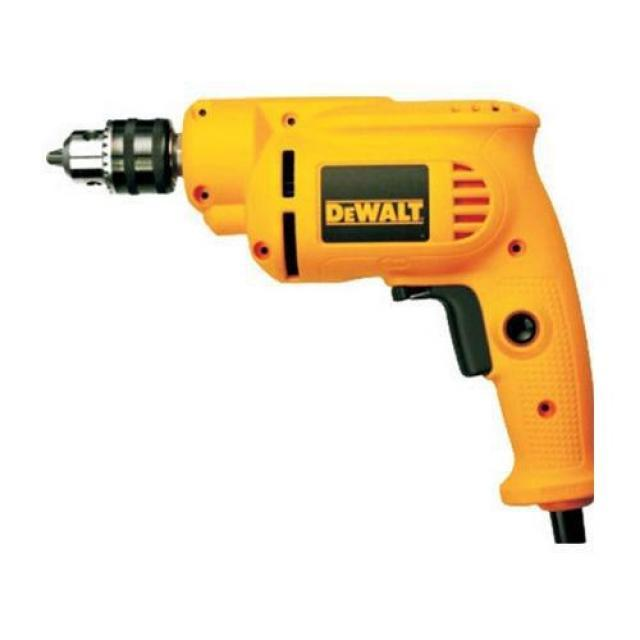drill: (46, 97, 595, 544)
